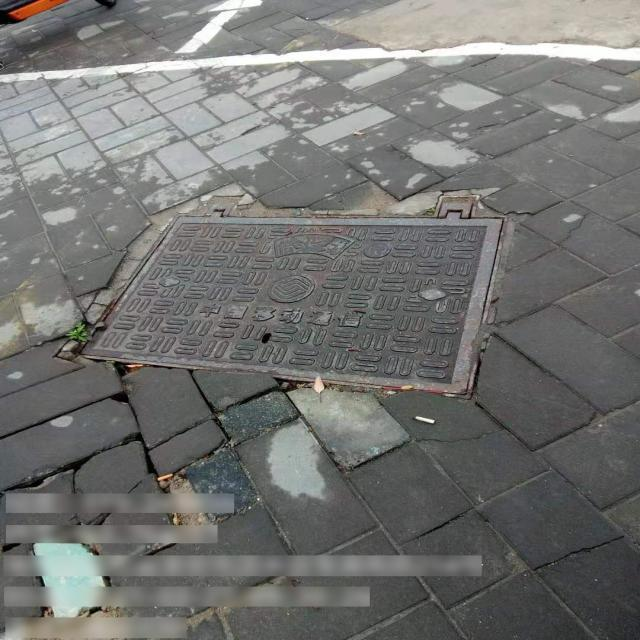Good: (76, 198, 508, 398)
